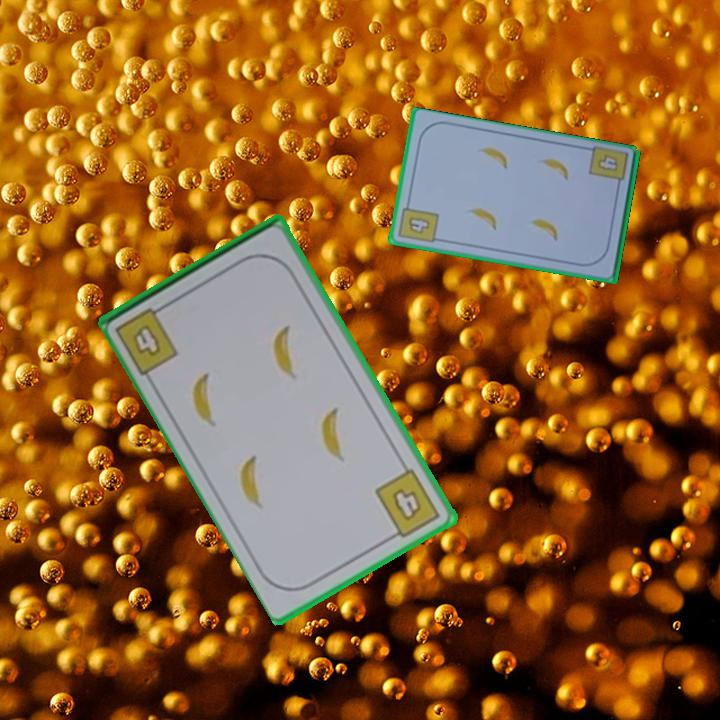4b: (371, 465, 444, 543), (111, 300, 179, 378), (395, 198, 441, 246), (593, 151, 621, 175)
